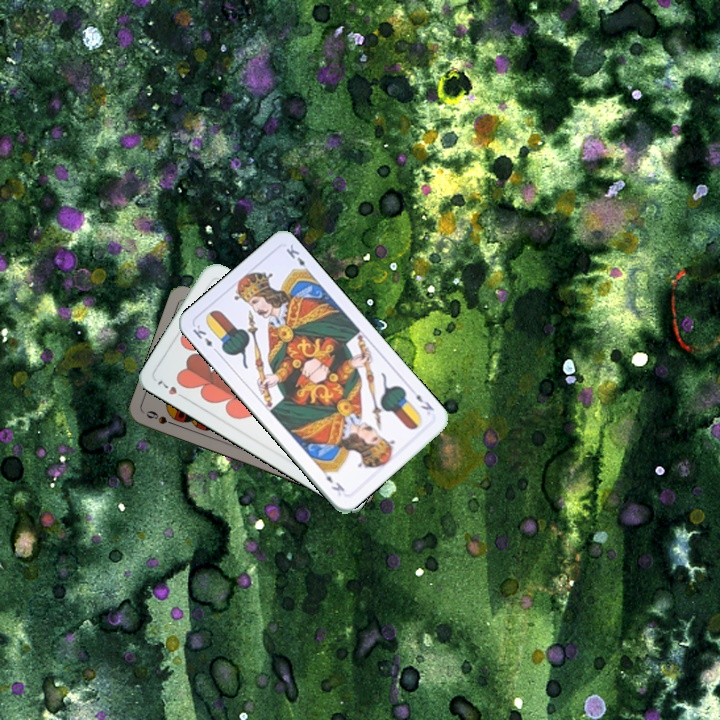EK: (189, 320, 221, 356), (407, 384, 436, 413)
H7: (153, 376, 189, 402)
S9: (142, 406, 181, 429)
